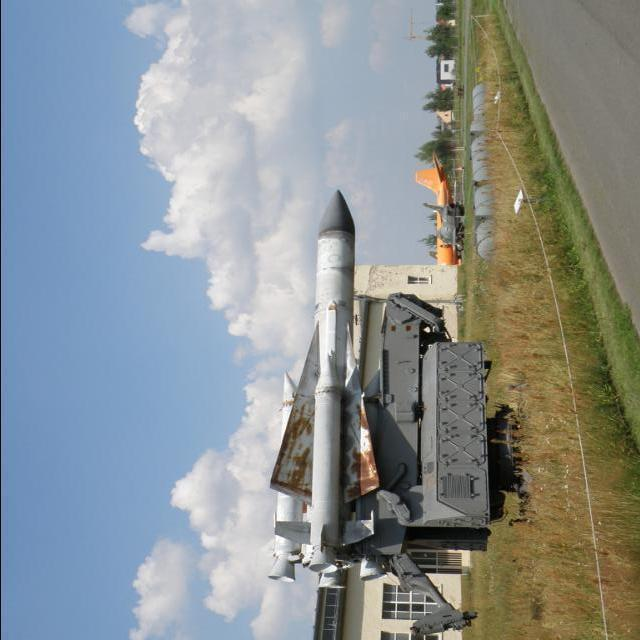missile: (277, 189, 382, 614)
